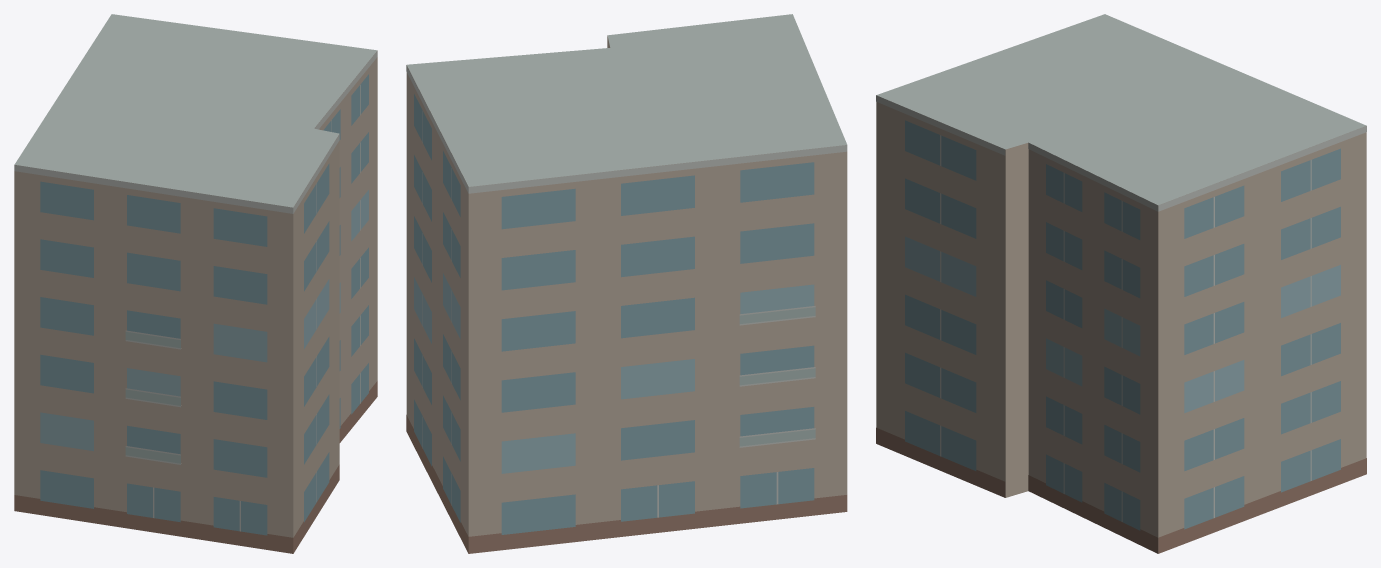
The model's file is survey-upis-32849752.glb.
3 views of the same model, side by side, from view 1: azimuth 30°, elevation 25°; view 2: azimuth 150°, elevation 25°; view 3: azimuth 270°, elevation 25° (orthographic). The views are drawn at different scales.
Visible parts, largest first — view 1: survey-upis-32849752.tmp; view 2: survey-upis-32849752.tmp; view 3: survey-upis-32849752.tmp.
Boxes of the visible parts, x1,y1,x2,y2 form: survey-upis-32849752.tmp: (14, 14, 377, 553); survey-upis-32849752.tmp: (406, 14, 847, 553); survey-upis-32849752.tmp: (876, 14, 1366, 553).
Bounding box in the file's own units: 15.55 × 13.2 × 16.85.
